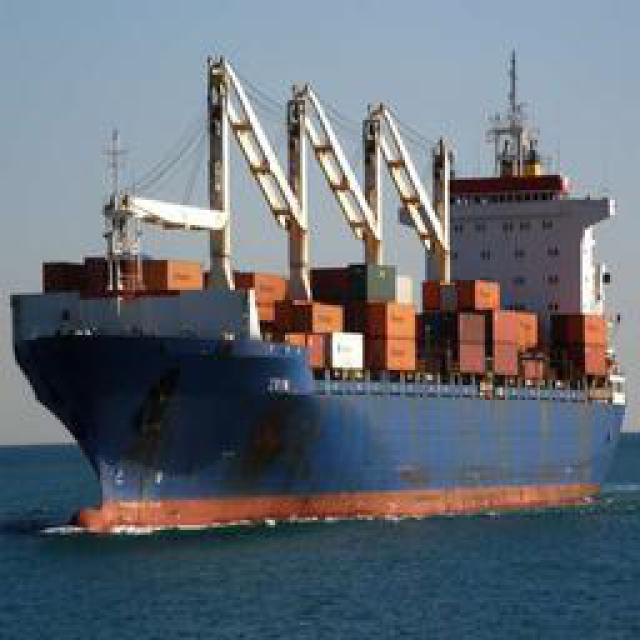Ship: (15, 29, 630, 529)
